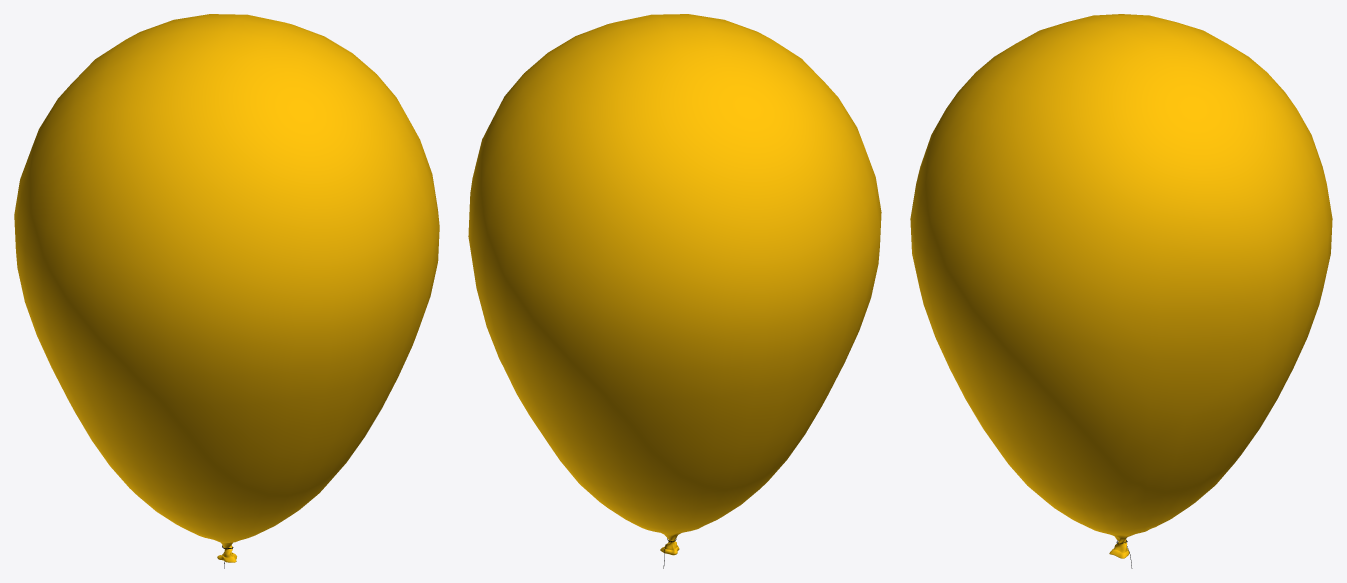
The model's file is ball.FBX.
The picture shows the model from 3 angles, left to right: view 1: azimuth 30°, elevation 25°; view 2: azimuth 150°, elevation 25°; view 3: azimuth 270°, elevation 25°; orthographic projection.
Visible parts, largest first — view 1: Sphere01; view 2: Sphere01; view 3: Sphere01.
Boxes of the visible parts, <box> form: Sphere01: <box>14,14,439,562</box>; Sphere01: <box>468,14,881,555</box>; Sphere01: <box>910,14,1332,558</box>.
Bounding box in the file's own units: 31.7 × 44.66 × 31.93.
